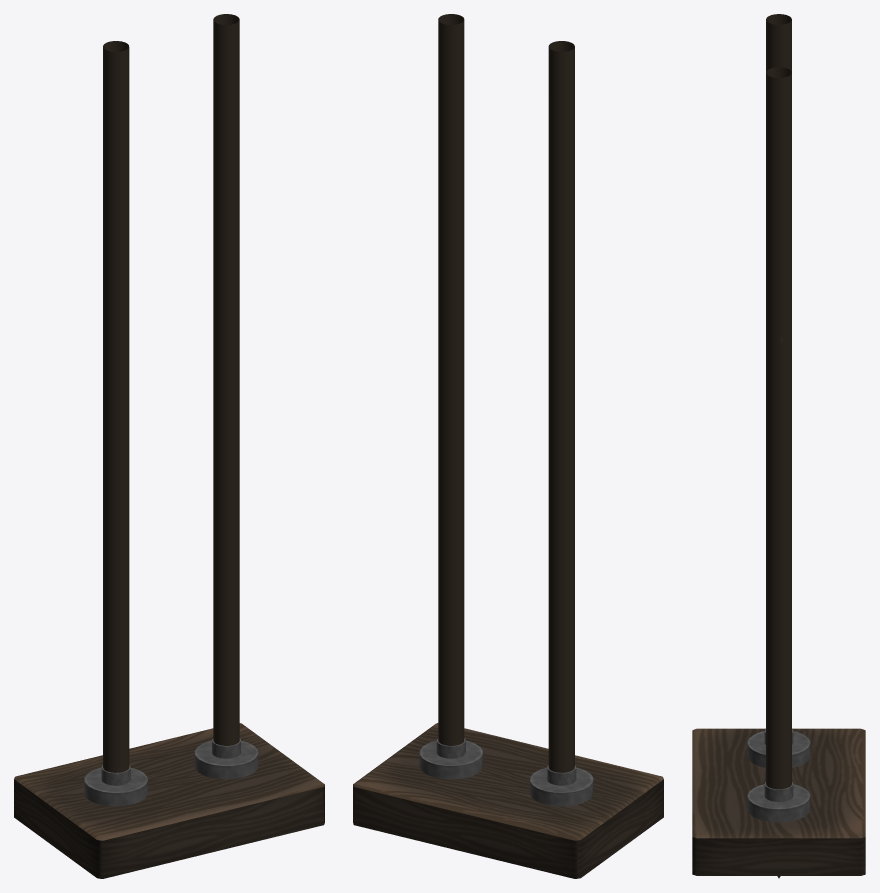
Rendered from press.fbx.
3 views of the same model, side by side, from view 1: azimuth 30°, elevation 25°; view 2: azimuth 150°, elevation 25°; view 3: azimuth 270°, elevation 25° (orthographic).
Parts seen in each view (by area): view 1: pCylinder4, pCube2; view 2: pCylinder4, pCube2; view 3: pCylinder4, pCube2.
Boxes of the visible parts, bbox=[...] form: pCylinder4: bbox=[84, 14, 258, 806]; pCube2: bbox=[14, 723, 324, 878]; pCylinder4: bbox=[419, 14, 593, 806]; pCube2: bbox=[353, 723, 663, 878]; pCylinder4: bbox=[747, 14, 810, 822]; pCube2: bbox=[692, 728, 865, 878].
Size of the model in its own units: 30 by 101 by 20.
1 material, 1 textured.
